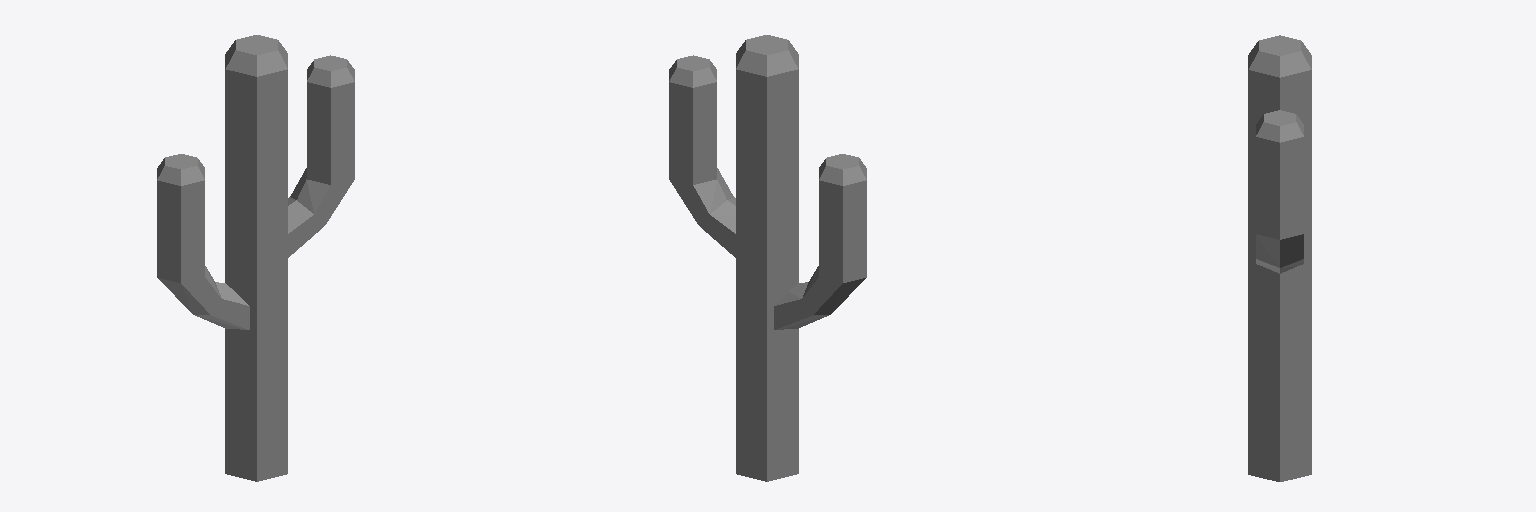
File: kaktus.obj
The picture shows the model from 3 angles: view 1: azimuth 30°, elevation 25°; view 2: azimuth 150°, elevation 25°; view 3: azimuth 270°, elevation 25°; orthographic projection.
Parts seen in each view (by area): view 1: cactus; view 2: cactus; view 3: cactus.
Part boxes in pixels (left/top/right/bottom): cactus: left=157, top=35, right=354, bottom=481; cactus: left=669, top=35, right=866, bottom=481; cactus: left=1248, top=35, right=1311, bottom=481.
Size of the model in its own units: 40.79 by 82.94 by 11.24.